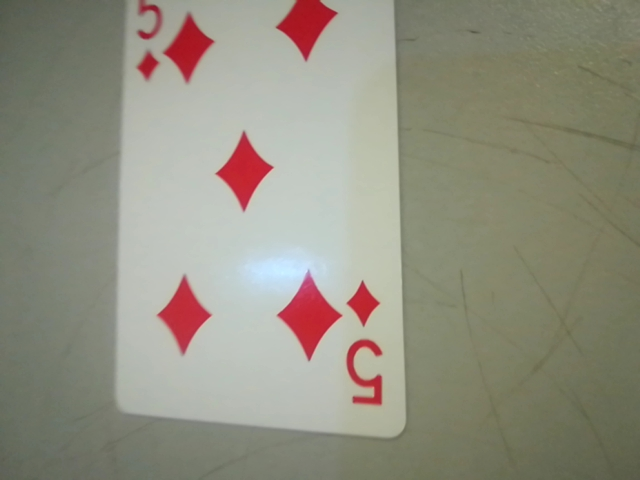fk 5: (334, 268, 398, 421)
